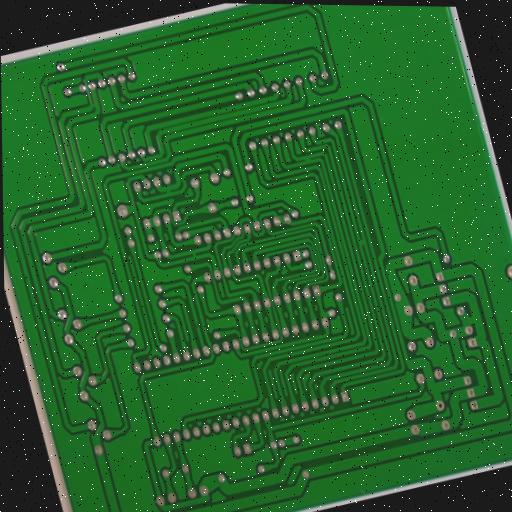short_circuit: (462, 310, 480, 330), (161, 183, 176, 199), (356, 235, 369, 250), (301, 152, 314, 166), (188, 249, 200, 262)
